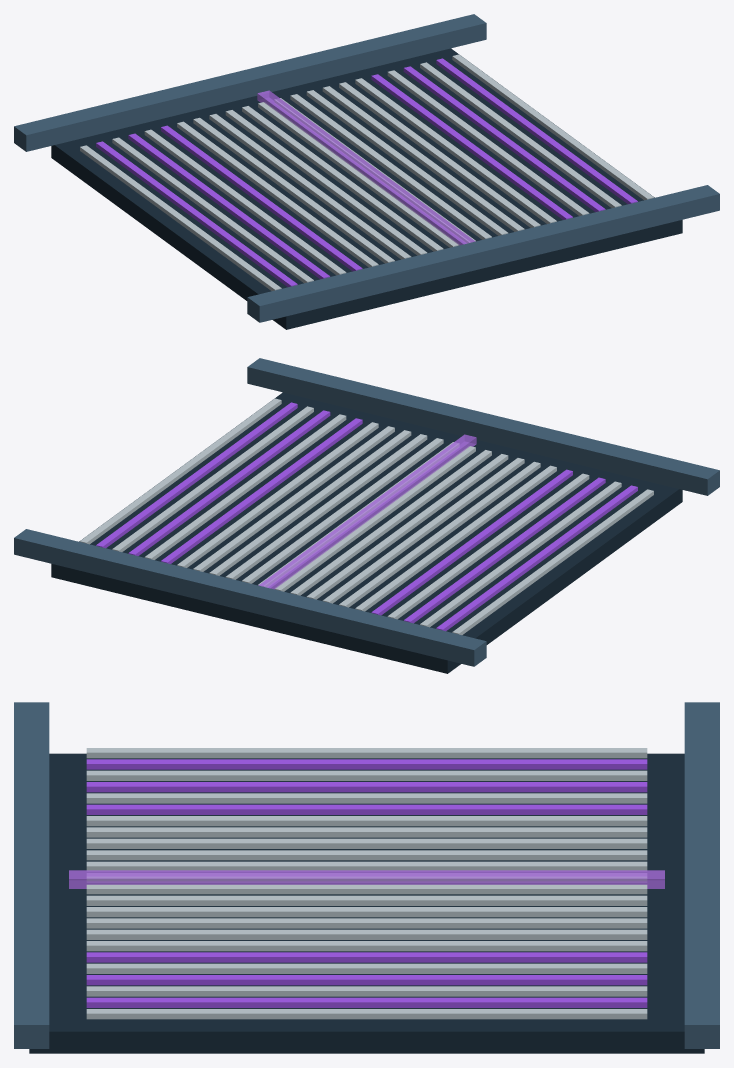
Rendered from 40_L74_PrecisionScanSlitAssembly.fbx.
The picture shows the model from 3 angles, top to bottom: view 1: azimuth 30°, elevation 25°; view 2: azimuth 150°, elevation 25°; view 3: azimuth 270°, elevation 25°; orthographic projection. The views are drawn at different scales.
Visible parts, largest first — view 1: PrecisionScanSlitAssembly_Part_0000, PrecisionScanSlitAssembly, PrecisionScanSlitAssembly_Part_0025, PrecisionScanSlitAssembly_Part_0005, PrecisionScanSlitAssembly_Part_0016, PrecisionScanSlitAssembly_Part_0021, PrecisionScanSlitAssembly_Part_0004, PrecisionScanSlitAssembly_Part_0010, PrecisionScanSlitAssembly_Part_0003, PrecisionScanSlitAssembly_Part_0007, PrecisionScanSlitAssembly_Part_0008, PrecisionScanSlitAssembly_Part_0014 (+15 smaller); view 2: PrecisionScanSlitAssembly_Part_0000, PrecisionScanSlitAssembly, PrecisionScanSlitAssembly_Part_0025, PrecisionScanSlitAssembly_Part_0005, PrecisionScanSlitAssembly_Part_0016, PrecisionScanSlitAssembly_Part_0021, PrecisionScanSlitAssembly_Part_0004, PrecisionScanSlitAssembly_Part_0010, PrecisionScanSlitAssembly_Part_0003, PrecisionScanSlitAssembly_Part_0007, PrecisionScanSlitAssembly_Part_0008, PrecisionScanSlitAssembly_Part_0014 (+15 smaller); view 3: PrecisionScanSlitAssembly_Part_0000, PrecisionScanSlitAssembly, PrecisionScanSlitAssembly_Part_0025, PrecisionScanSlitAssembly_Part_0002, PrecisionScanSlitAssembly_Part_0005, PrecisionScanSlitAssembly_Part_0008, PrecisionScanSlitAssembly_Part_0016, PrecisionScanSlitAssembly_Part_0019, PrecisionScanSlitAssembly_Part_0022, PrecisionScanSlitAssembly_Part_0001, PrecisionScanSlitAssembly_Part_0003, PrecisionScanSlitAssembly_Part_0004 (+15 smaller).
Boxes of the visible parts, box(x1,y1,x2,y2) form: PrecisionScanSlitAssembly_Part_0000: box(51, 48, 682, 329); PrecisionScanSlitAssembly: box(14, 14, 719, 322); PrecisionScanSlitAssembly_Part_0025: box(257, 90, 475, 245); PrecisionScanSlitAssembly_Part_0005: box(144, 129, 346, 275); PrecisionScanSlitAssembly_Part_0016: box(322, 86, 524, 231); PrecisionScanSlitAssembly_Part_0021: box(403, 66, 605, 211); PrecisionScanSlitAssembly_Part_0004: box(128, 133, 330, 279); PrecisionScanSlitAssembly_Part_0010: box(225, 110, 427, 255); PrecisionScanSlitAssembly_Part_0003: box(112, 137, 313, 283); PrecisionScanSlitAssembly_Part_0007: box(177, 121, 378, 267); PrecisionScanSlitAssembly_Part_0008: box(193, 117, 394, 263); PrecisionScanSlitAssembly_Part_0014: box(290, 94, 491, 239); PrecisionScanSlitAssembly_Part_0000: box(51, 392, 682, 673); PrecisionScanSlitAssembly: box(14, 358, 719, 666); PrecisionScanSlitAssembly_Part_0025: box(258, 434, 476, 589); PrecisionScanSlitAssembly_Part_0005: box(387, 473, 589, 619); PrecisionScanSlitAssembly_Part_0016: box(209, 430, 411, 575); PrecisionScanSlitAssembly_Part_0021: box(128, 410, 330, 555); PrecisionScanSlitAssembly_Part_0004: box(403, 477, 605, 623); PrecisionScanSlitAssembly_Part_0010: box(306, 454, 508, 599); PrecisionScanSlitAssembly_Part_0003: box(420, 481, 621, 627); PrecisionScanSlitAssembly_Part_0007: box(355, 465, 556, 611); PrecisionScanSlitAssembly_Part_0008: box(339, 461, 540, 607); PrecisionScanSlitAssembly_Part_0014: box(242, 438, 443, 583); PrecisionScanSlitAssembly_Part_0000: box(29, 753, 704, 1053); PrecisionScanSlitAssembly: box(14, 702, 719, 1048); PrecisionScanSlitAssembly_Part_0025: box(69, 870, 664, 888); PrecisionScanSlitAssembly_Part_0002: box(86, 759, 647, 769); PrecisionScanSlitAssembly_Part_0005: box(86, 793, 647, 803); PrecisionScanSlitAssembly_Part_0008: box(86, 827, 647, 837); PrecisionScanSlitAssembly_Part_0016: box(86, 918, 647, 928); PrecisionScanSlitAssembly_Part_0019: box(86, 952, 647, 962); PrecisionScanSlitAssembly_Part_0022: box(86, 986, 647, 996); PrecisionScanSlitAssembly_Part_0001: box(86, 748, 647, 758); PrecisionScanSlitAssembly_Part_0003: box(86, 770, 647, 780); PrecisionScanSlitAssembly_Part_0004: box(86, 782, 647, 792).
Size of the model in its own units: 173 by 12.75 by 160.
